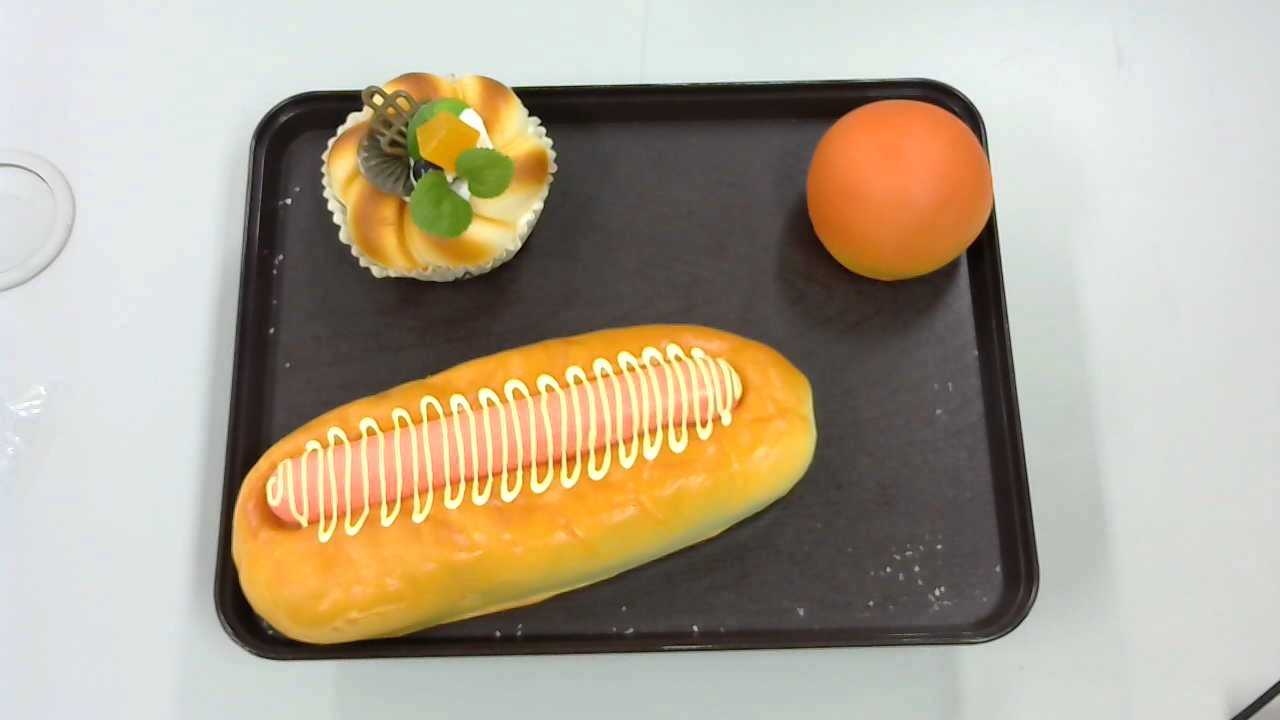bun: (805, 99, 992, 281)
fruit tart: (320, 73, 556, 282)
hot dog: (229, 322, 819, 645)
